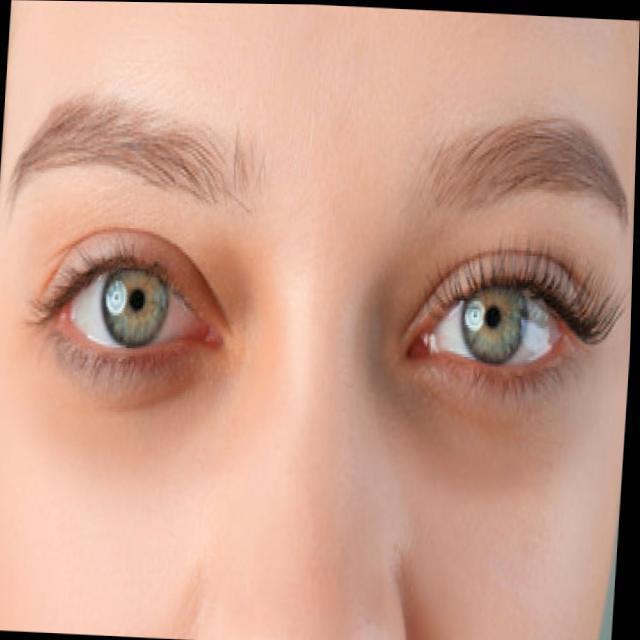puffy_eyes: (22, 327, 230, 457), (403, 359, 588, 477)
